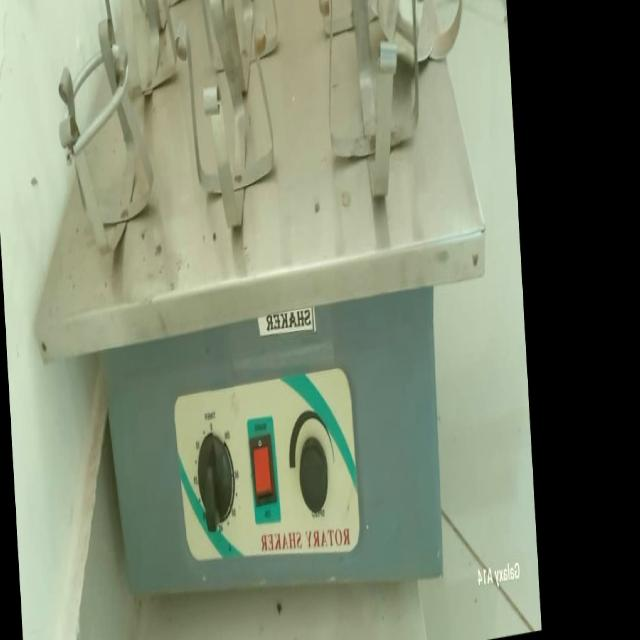Rotary Shaker: (12, 0, 508, 640)
